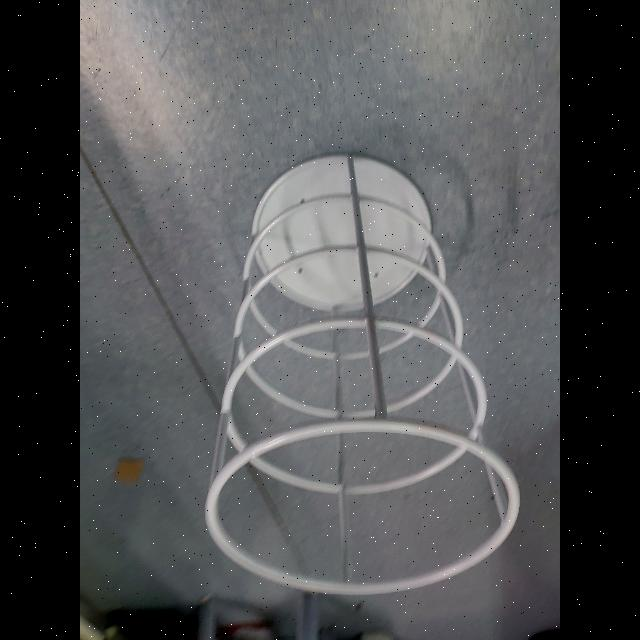S: (200, 144, 522, 602)
